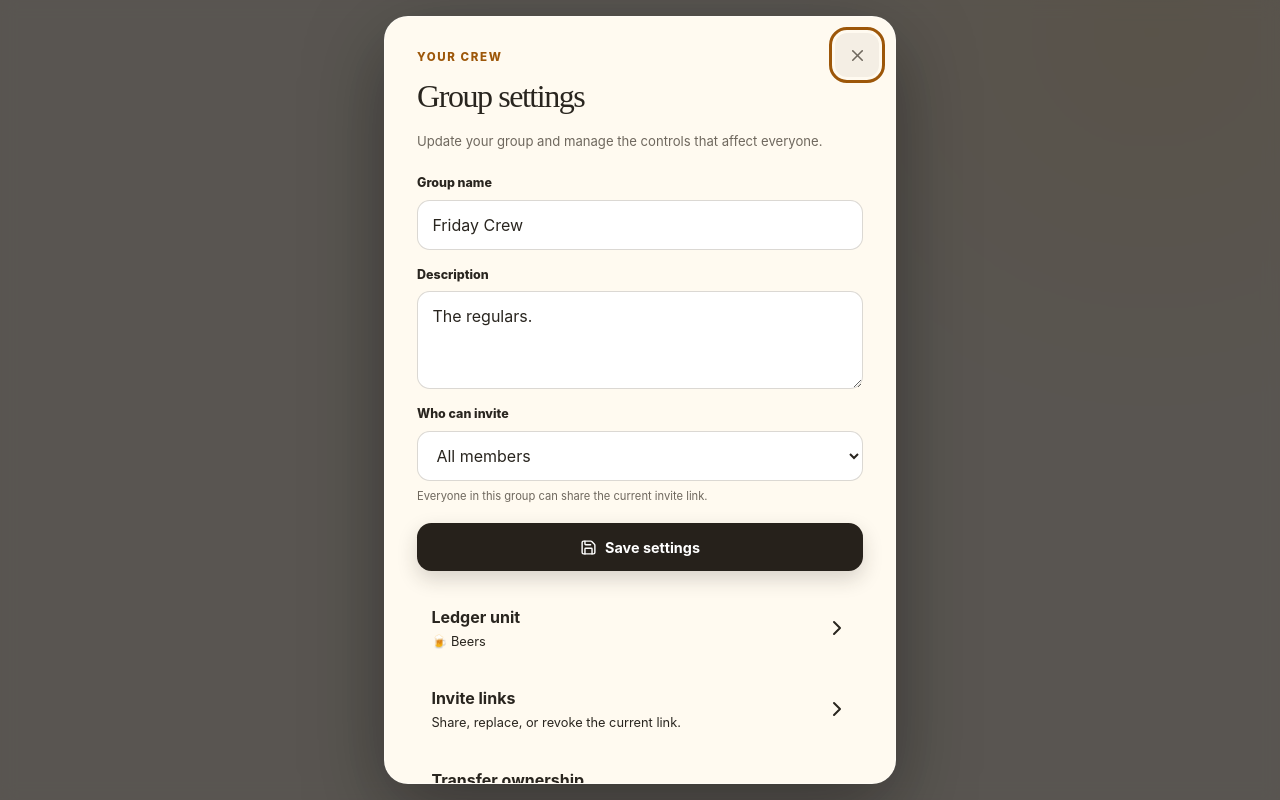
Test: GroupSettingsDialog › explains the selected invite permission
This screenshot has width=1280, height=800.
Check: the text "Everyone in this group can share the current invite link." is shown, box [417,489,708,503]
Select "Only me" in the dropdown labelled "Who can invite" at point(640, 456), box [417,431,863,481]
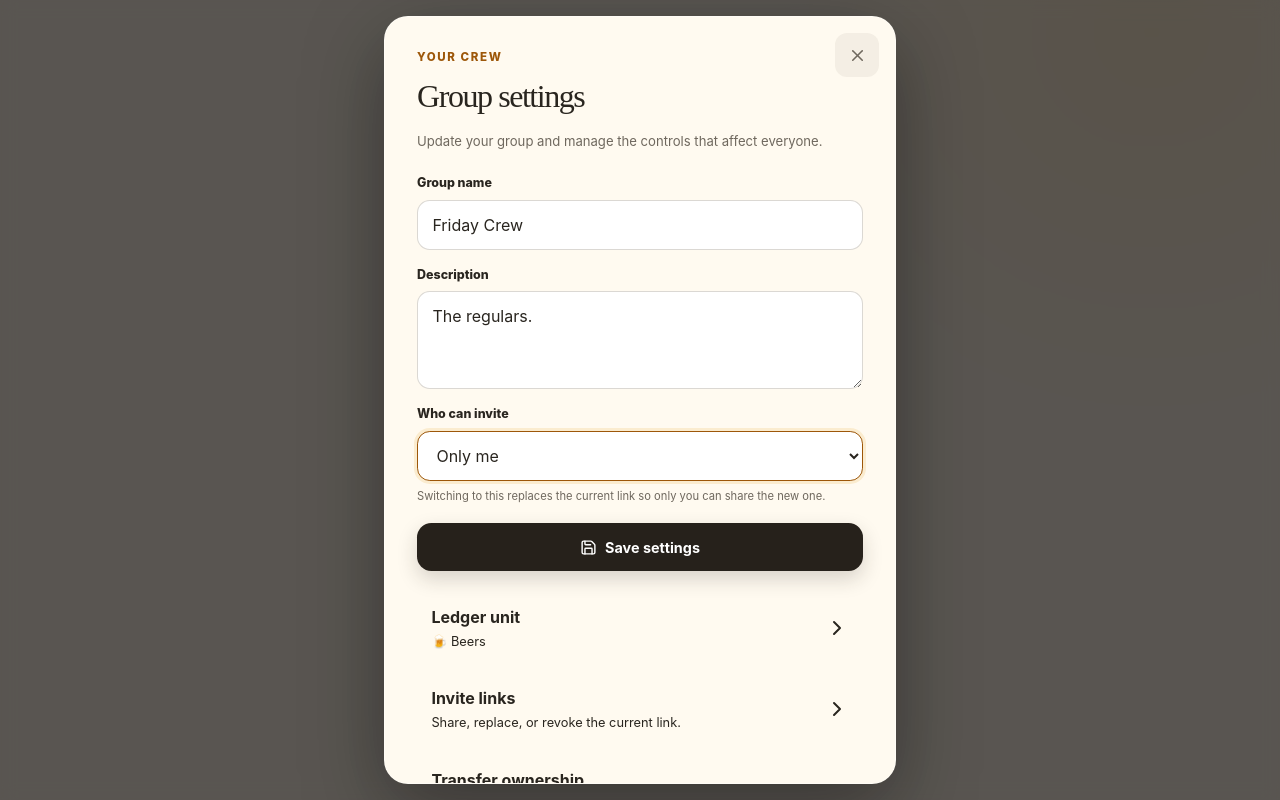
Check: the text "Switching to this replaces the current link so only you can share the new one." is shown, box [417,488,863,504]
